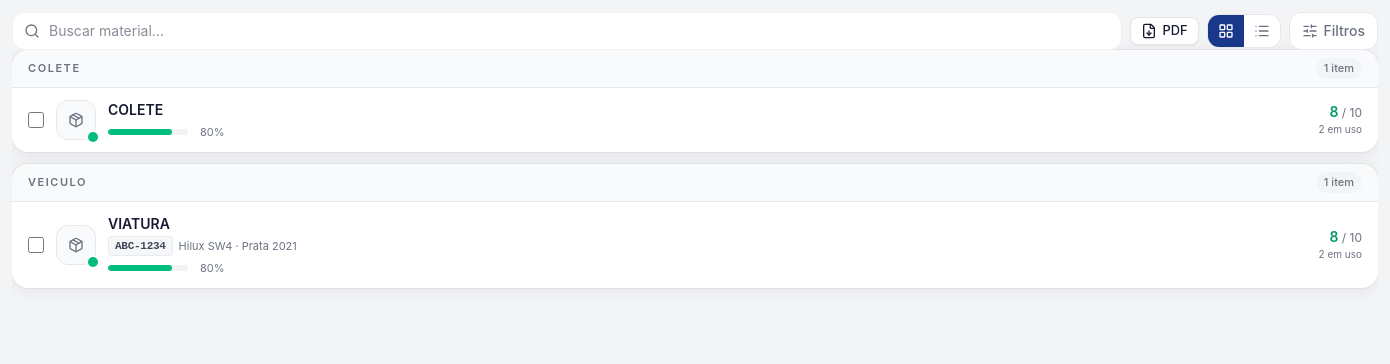
it: ArsenalClient — hierarquia grupo × item na grade › suprime o cabeçalho redundante quando o filtro de categoria deixa um único grupo
Click the button titled "Mostrar/ocultar filtros" at (1333, 31), box [1289, 12, 1378, 50]
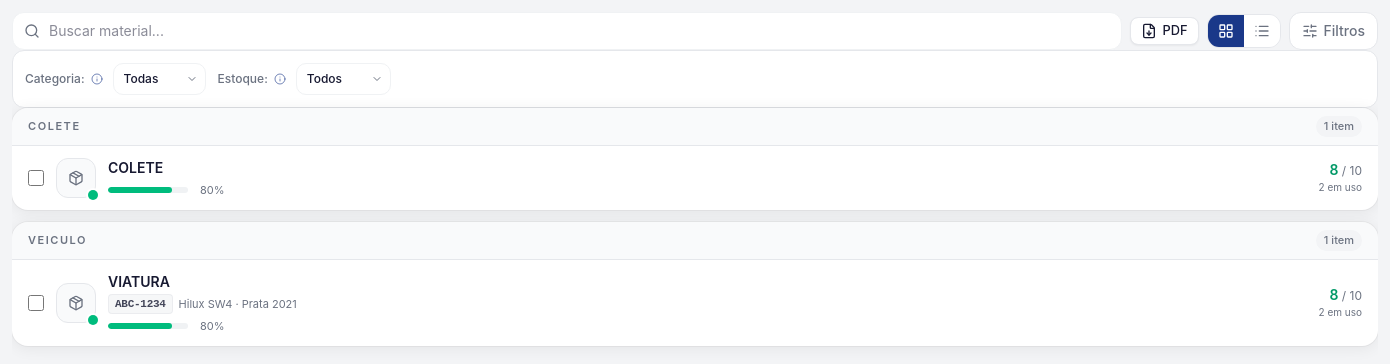
Select "VEICULO" in the dropdown with test id "arsenal-categoria-select" at (159, 79), box [112, 63, 206, 95]
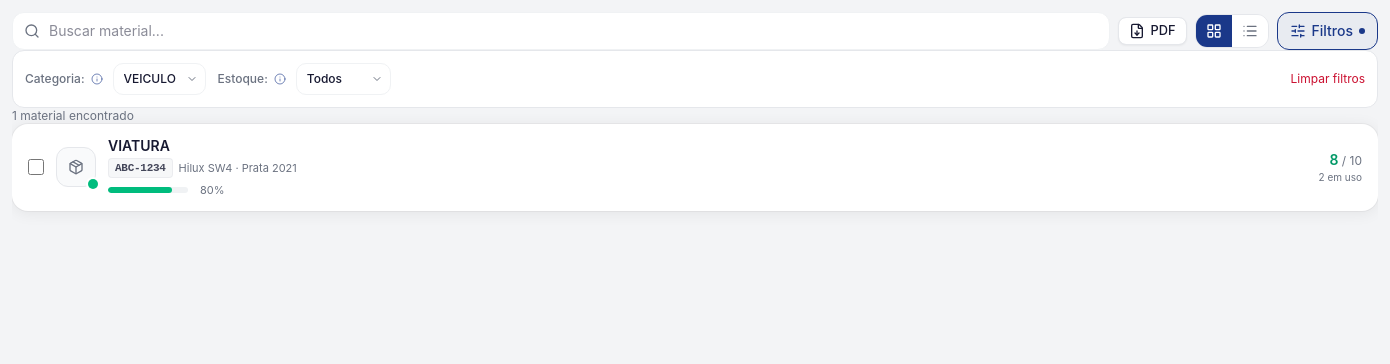
Expected: the element with test id "material-identity" shows "ABC-1234", [115, 162, 166, 174]
Now the element with test id "arsenal-category-header" is gone
